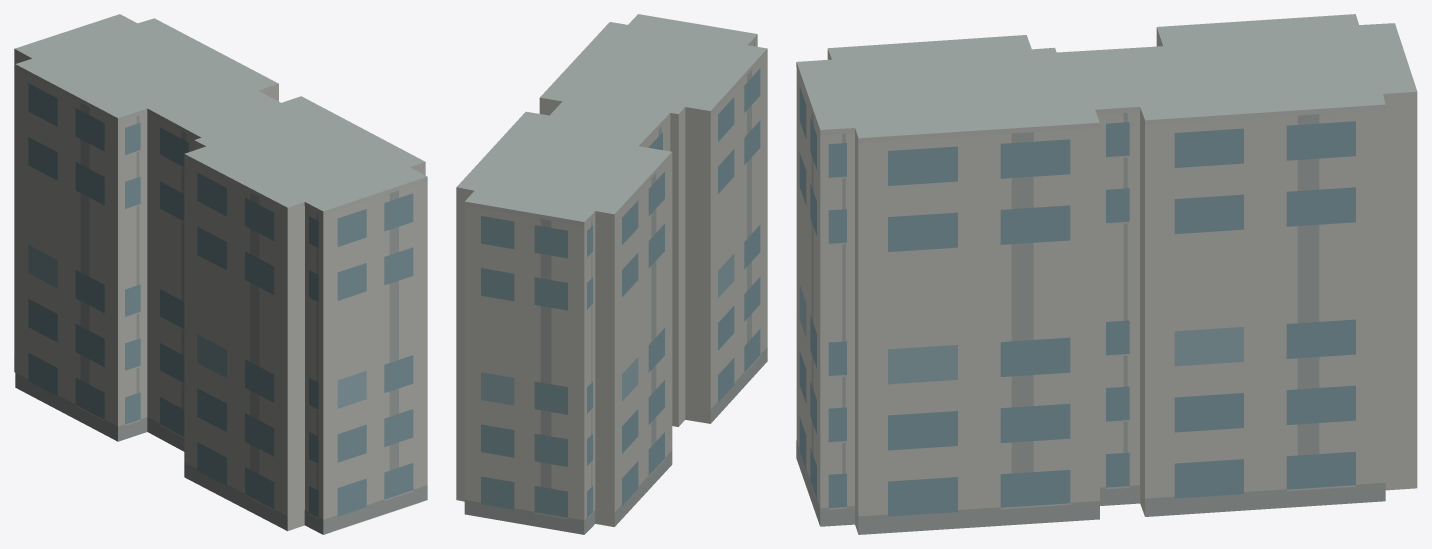
Rendered from survey-upis-32926173.glb.
The picture shows the model from 3 angles, left to right: view 1: azimuth 30°, elevation 25°; view 2: azimuth 150°, elevation 25°; view 3: azimuth 270°, elevation 25°; orthographic projection. The views are drawn at different scales.
Visible parts, largest first — view 1: survey-upis-32926173.tmp; view 2: survey-upis-32926173.tmp; view 3: survey-upis-32926173.tmp.
Part boxes in pixels (x1,y1,x2,y2): survey-upis-32926173.tmp: [14, 14, 427, 534]; survey-upis-32926173.tmp: [456, 14, 767, 534]; survey-upis-32926173.tmp: [796, 14, 1417, 534].
Size of the model in its own units: 12.44 by 18.5 by 26.26.
